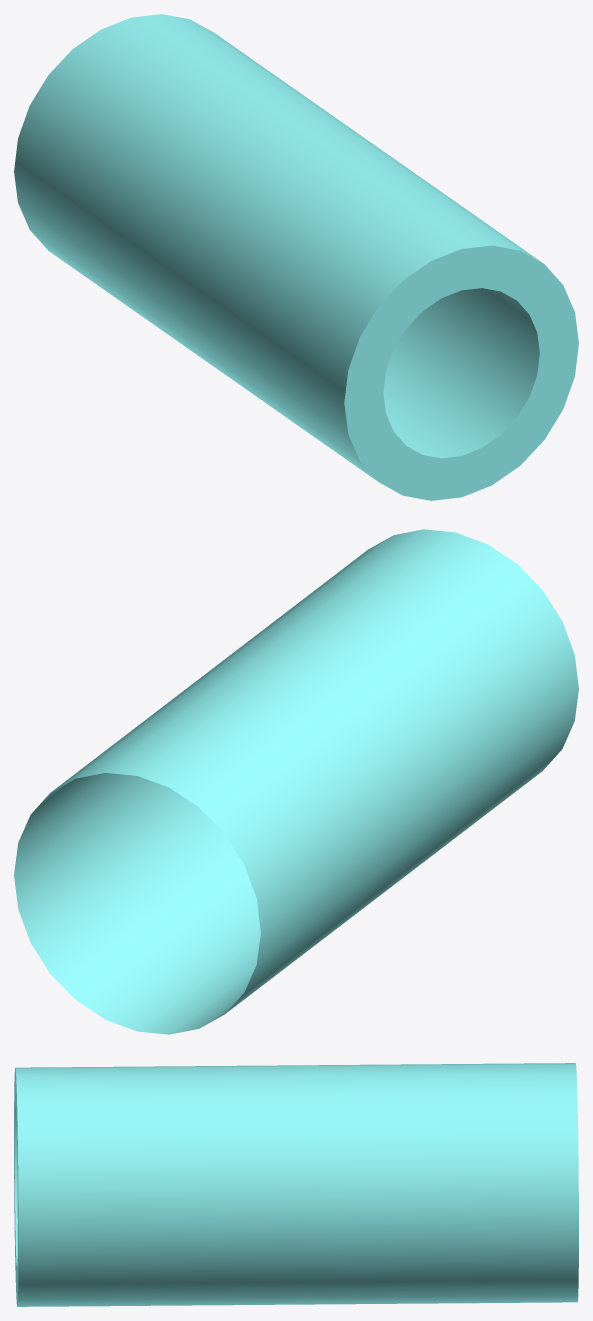
The model's file is original-16.obj.
The picture shows the model from 3 angles, top to bottom: view 1: azimuth 30°, elevation 25°; view 2: azimuth 150°, elevation 25°; view 3: azimuth 270°, elevation 25°; orthographic projection. The views are drawn at different scales.
Visible parts, largest first — view 1: #ID100; view 2: #ID100; view 3: #ID100.
Part boxes in pixels (left/top/right/bottom): #ID100: left=14, top=14, right=578, bottom=500; #ID100: left=14, top=529, right=578, bottom=1034; #ID100: left=14, top=1063, right=578, bottom=1306.
Bounding box in the file's own units: 0.062 × 0.0593 × 0.1396.
